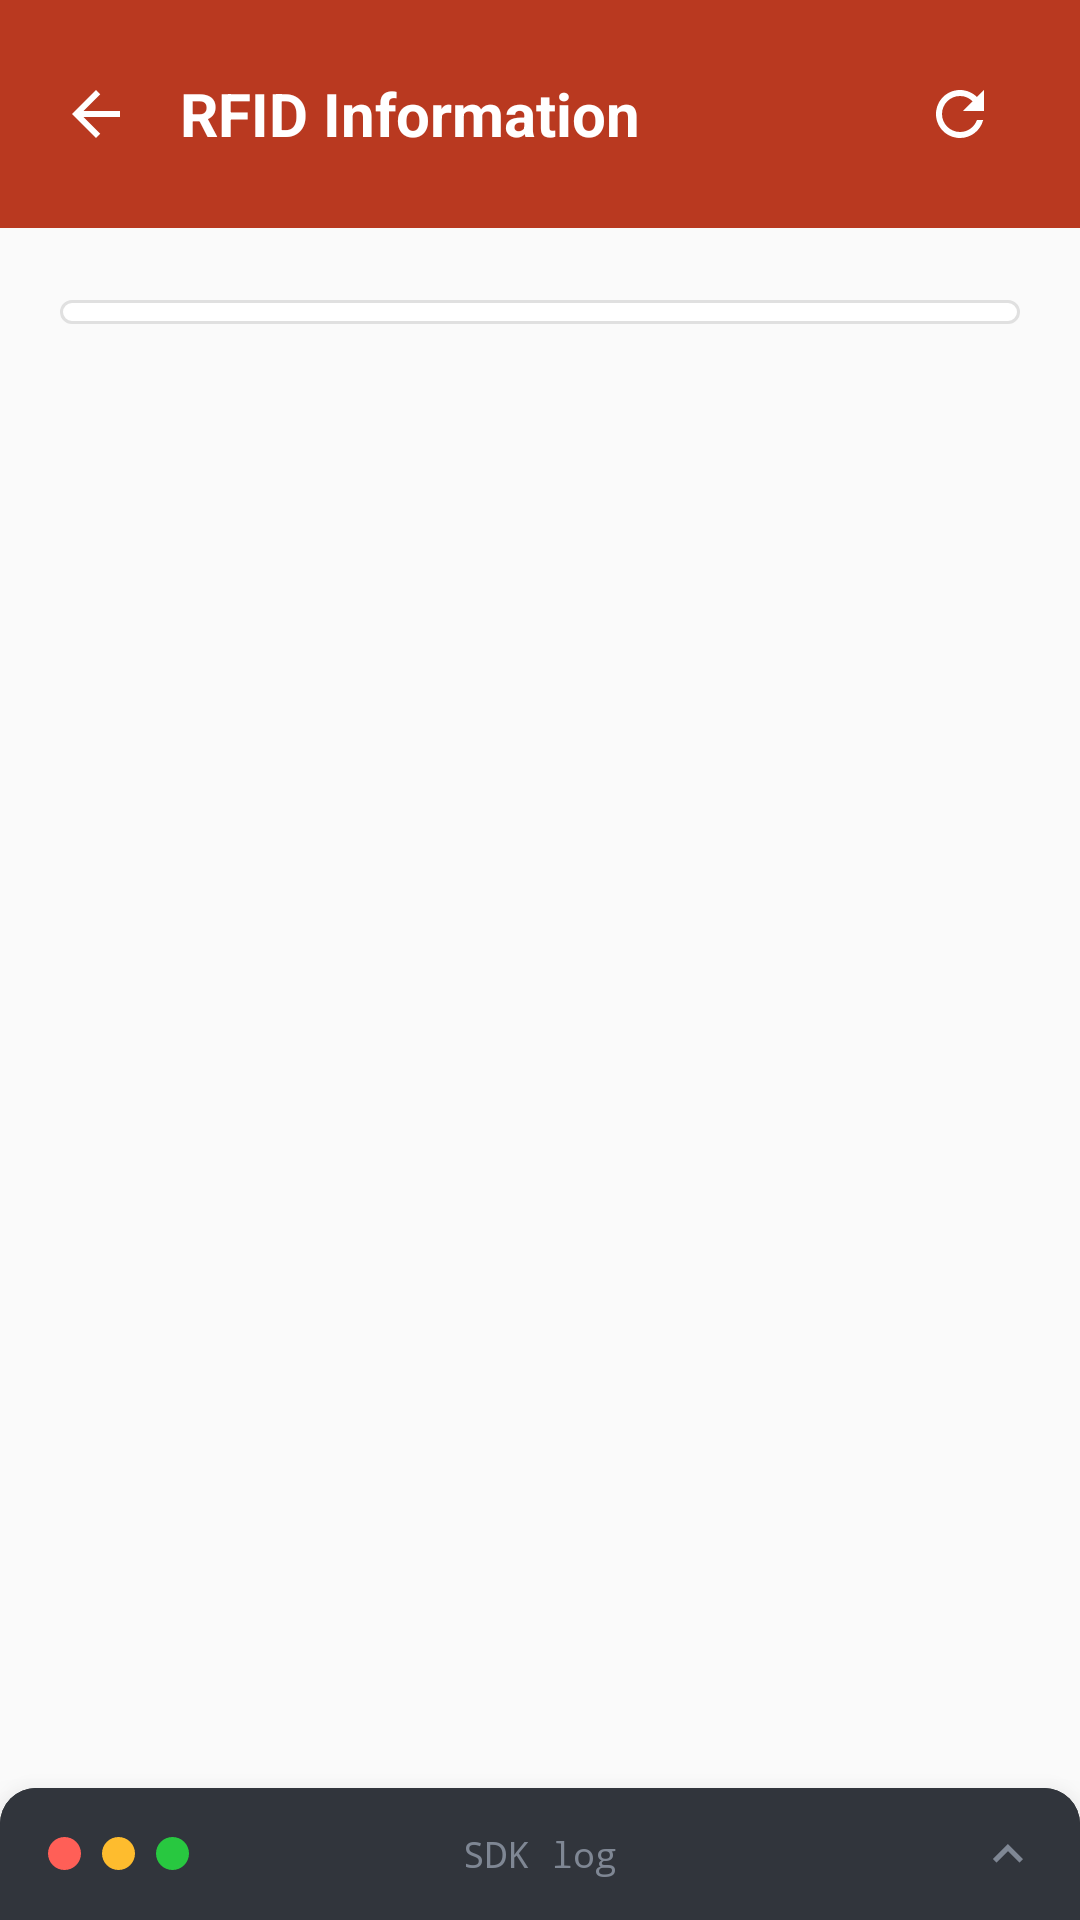

Icons on this 1080×1920 Android screen, each with its box as (x1, y1, x2, y2):
Back: (72, 90, 120, 138)
Refresh: (936, 90, 984, 138)
